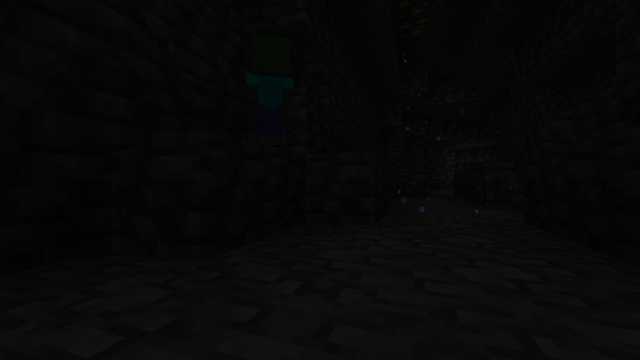zombies: (250, 49, 287, 147)
